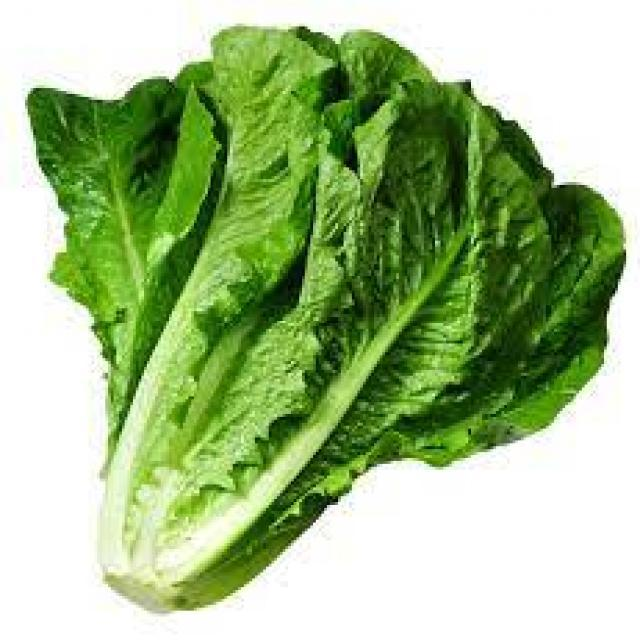Lettuce: (26, 20, 626, 612)
